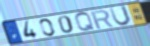0: (57, 15, 75, 34), (39, 18, 56, 37)
4: (23, 19, 40, 40)
Q: (74, 11, 97, 32)
R: (90, 9, 116, 30)
U: (108, 4, 133, 27)
